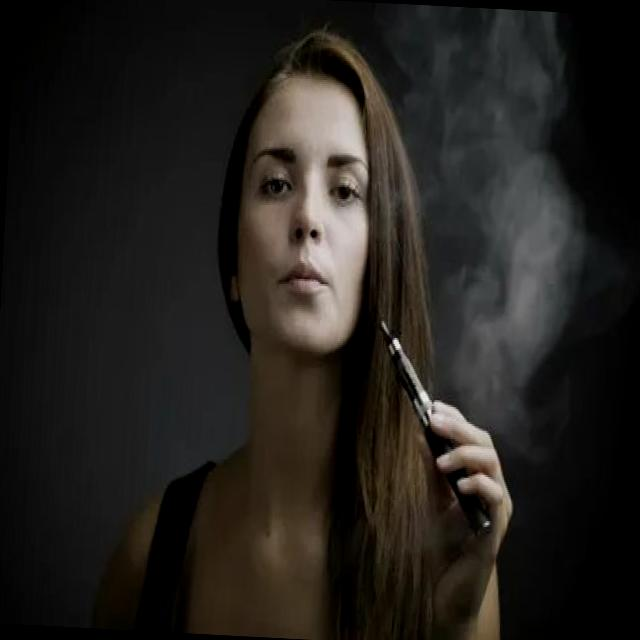cigarette: (366, 313, 503, 539)
